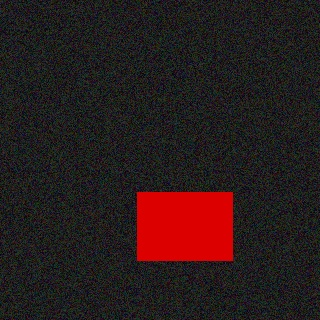red_barrel: (137, 193, 233, 260)
